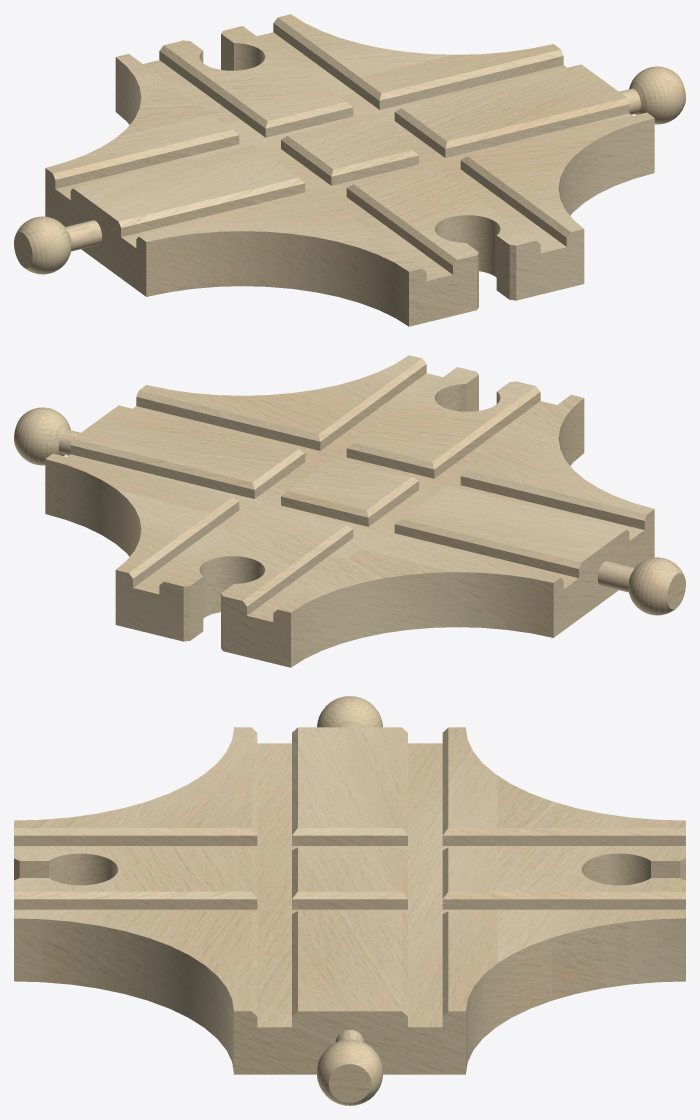
3 views of the same model, one above another, from view 1: azimuth 30°, elevation 25°; view 2: azimuth 150°, elevation 25°; view 3: azimuth 270°, elevation 25° (orthographic). The views are drawn at different scales.
Parts seen in each view (by area): view 1: SketchUp (×2), _3d_peg (×2); view 2: SketchUp (×2), _3d_peg (×2); view 3: SketchUp (×2), _3d_peg (×2).
Boxes of the visible parts, box(x1,y1,x2,y2) form: SketchUp (×2): box(45, 14, 654, 326); _3d_peg (×2): box(14, 66, 685, 274); SketchUp (×2): box(45, 355, 654, 667); _3d_peg (×2): box(14, 407, 685, 615); SketchUp (×2): box(14, 727, 685, 1074); _3d_peg (×2): box(316, 696, 383, 1105).
Size of the model in its own units: 5.87 by 4.57 by 0.4724.
